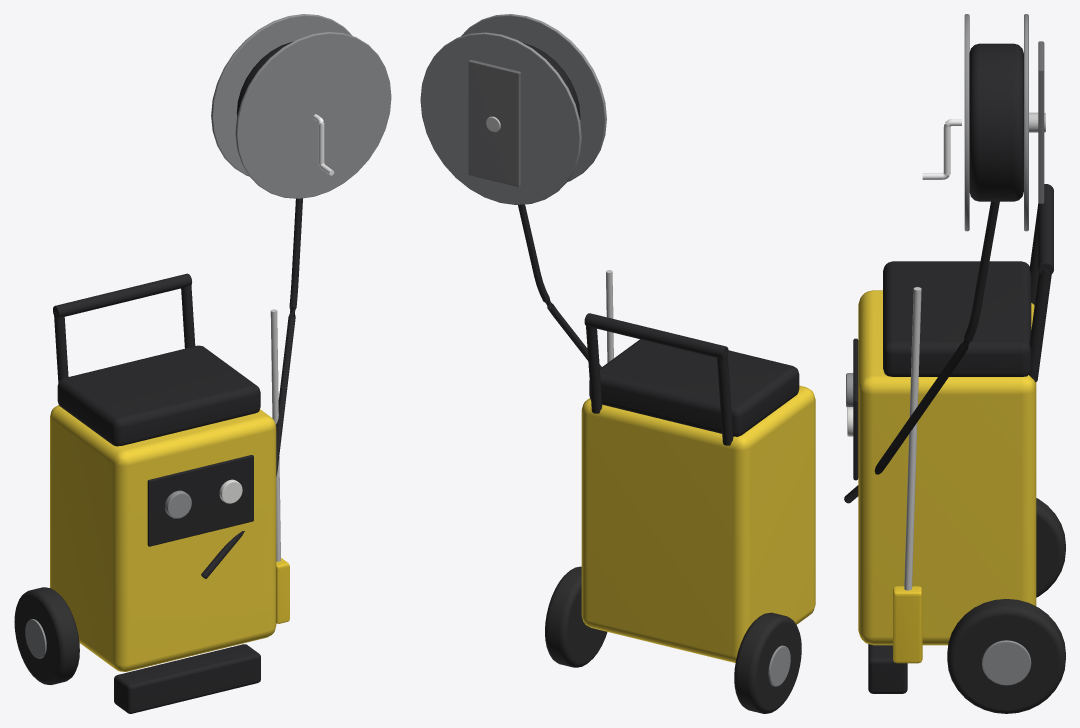
File: pressure_washer.glb
The picture shows the model from 3 angles, left to right: view 1: azimuth 30°, elevation 25°; view 2: azimuth 150°, elevation 25°; view 3: azimuth 270°, elevation 25°; orthographic projection. The views are drawn at different scales.
Visible parts, largest first — view 1: SM_pressure_washer; view 2: SM_pressure_washer; view 3: SM_pressure_washer.
Boxes of the visible parts, x1,y1,x2,y2 form: SM_pressure_washer: (14, 14, 391, 713); SM_pressure_washer: (420, 14, 815, 713); SM_pressure_washer: (844, 14, 1065, 713).
Bounding box in the file's own units: 0.965 × 1.62 × 0.4488.
